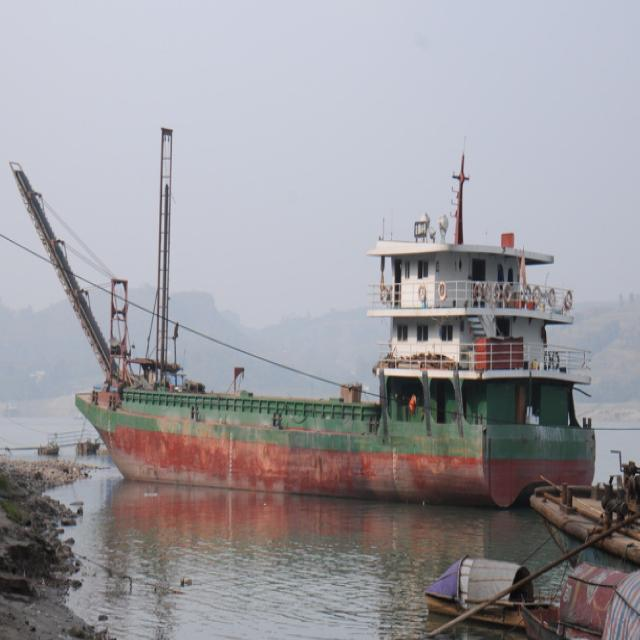fishing boat: (23, 127, 589, 507)
